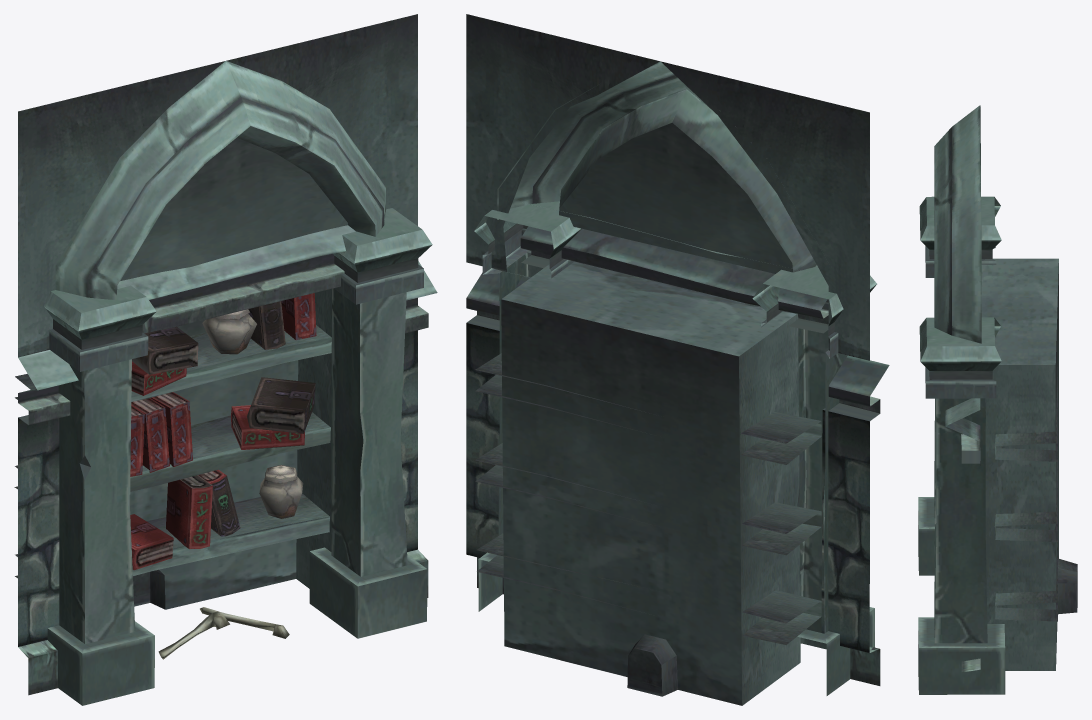
The model's file is crypt_wall_straight_13.fbx.
3 renders of one model, left to right at view 1: azimuth 30°, elevation 25°; view 2: azimuth 150°, elevation 25°; view 3: azimuth 270°, elevation 25°, orthographic. The views are drawn at different scales.
Parts seen in each view (by area): view 1: crypt_wall_straight_13-0; view 2: crypt_wall_straight_13-0; view 3: crypt_wall_straight_13-0.
Boxes of the visible parts, x1,y1,x2,y2 form: crypt_wall_straight_13-0: (14,14,437,705); crypt_wall_straight_13-0: (466,14,889,705); crypt_wall_straight_13-0: (918,105,1077,694).
Bounding box in the file's own units: 4 × 5.51 × 1.54.
